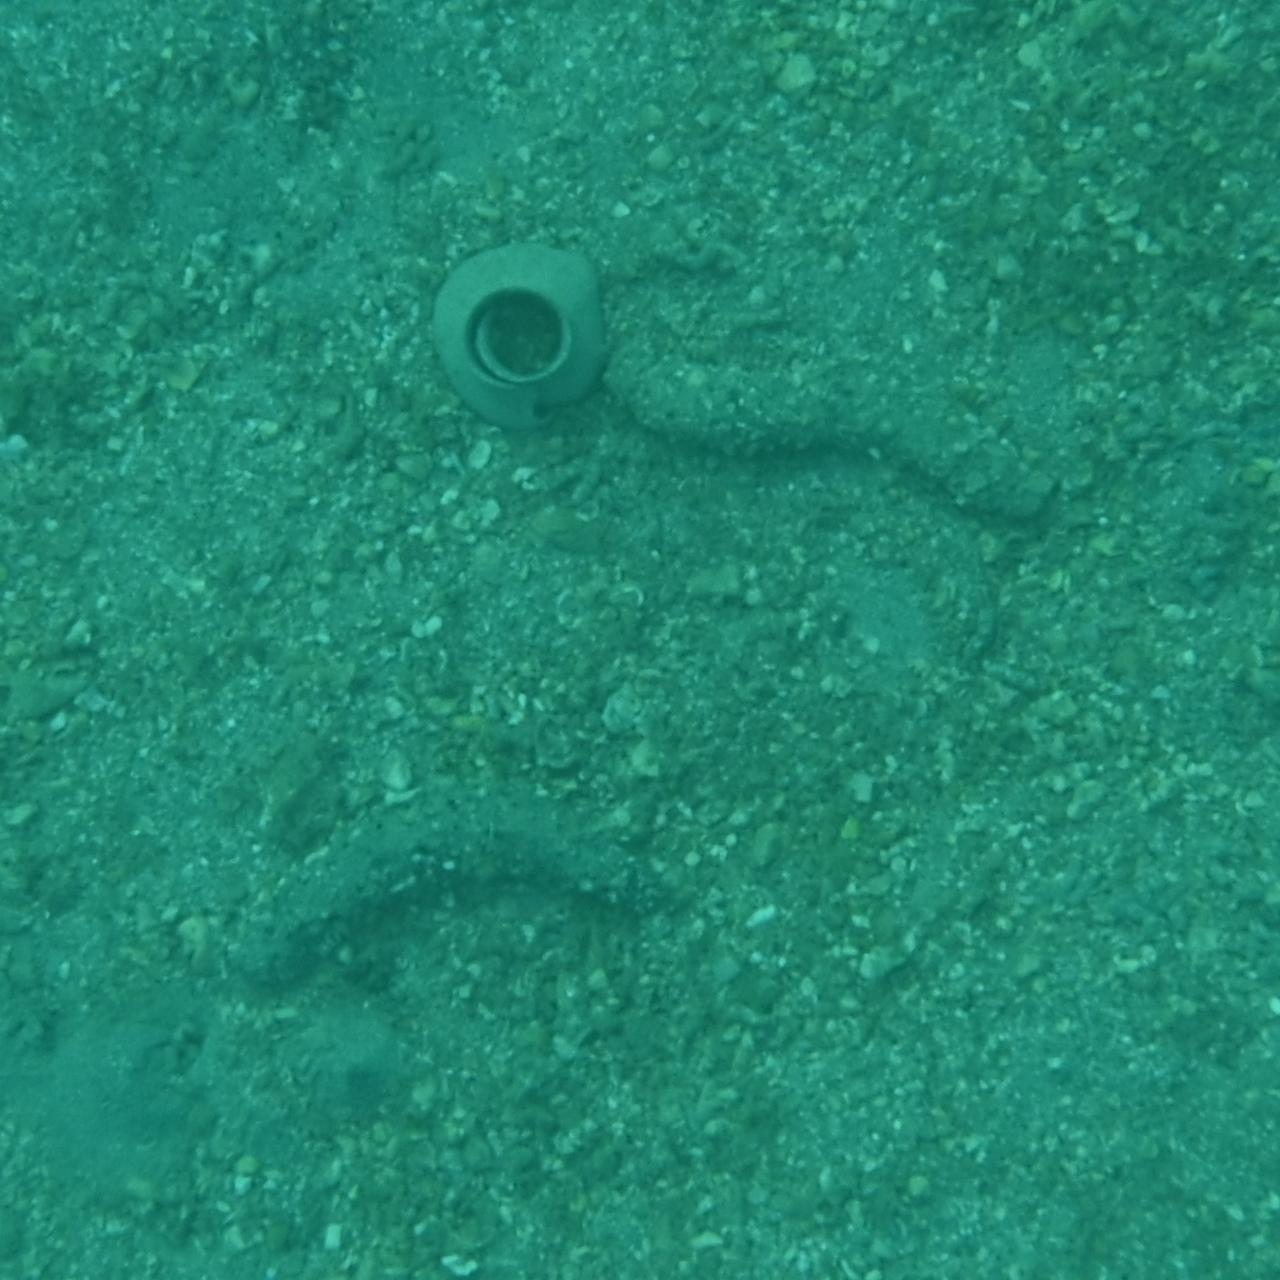Holothuria tubulosa: (196, 762, 692, 974), (600, 309, 1073, 515)
